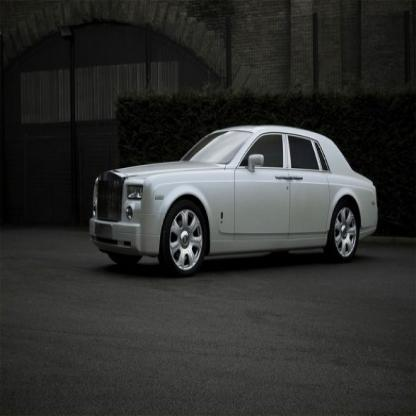Vehicle: (78, 115, 379, 282)
